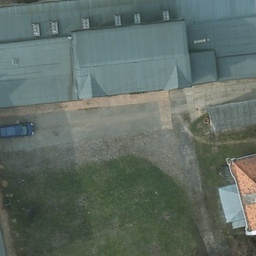car: (1, 122, 34, 139)
